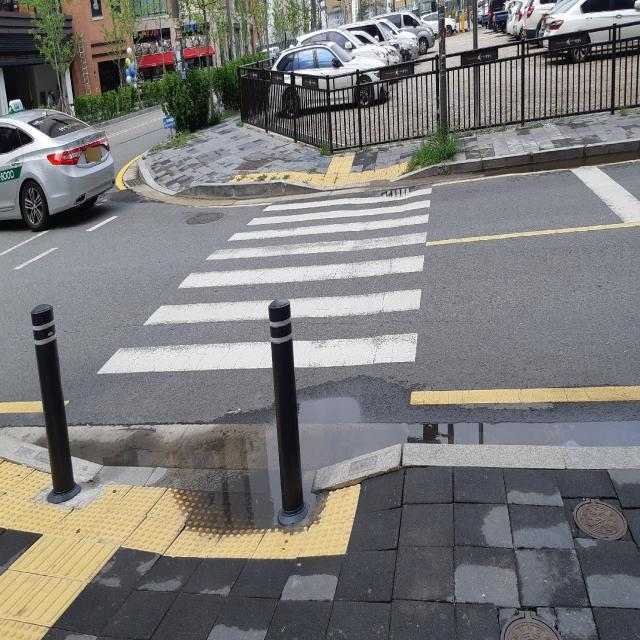횡단보도: (95, 185, 435, 378)
